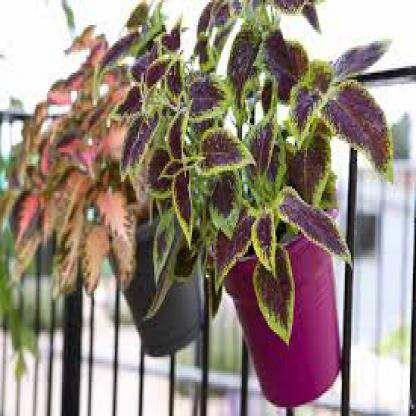Bunga Coleus: (39, 67, 331, 267)
